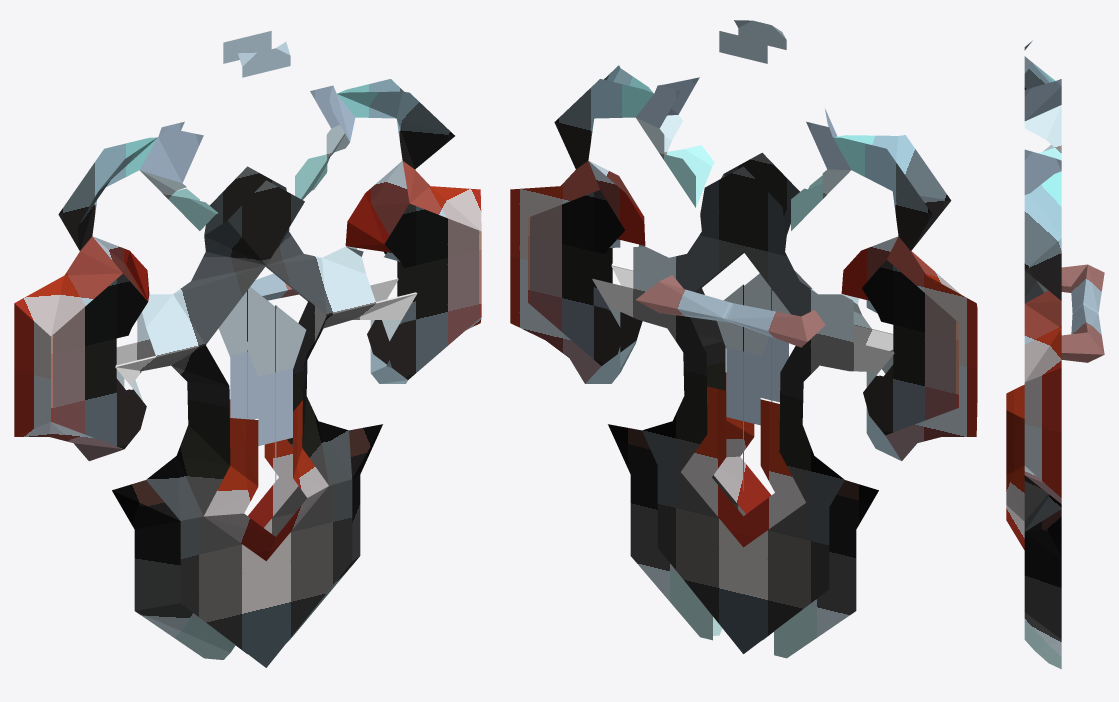
The model's file is scrutiny.obj.
3 renders of one model, left to right at view 1: azimuth 30°, elevation 25°; view 2: azimuth 150°, elevation 25°; view 3: azimuth 270°, elevation 25°, orthographic. The views are drawn at different scales.
Size of the model in its own units: 57.05 by 76.94 by 10.67.
